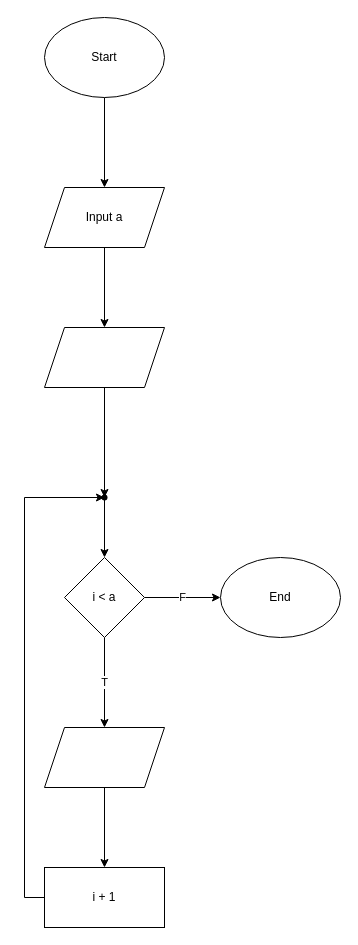
The diagram is 358 pixels wide and 945 high, and some of its shapes have lost their labels. Here are the shapes that lost their labels. From the top down, the box of each, then its label:
(44, 326, 164, 388): Input I = 0
(44, 726, 164, 788): Output [i+1] Hello World
